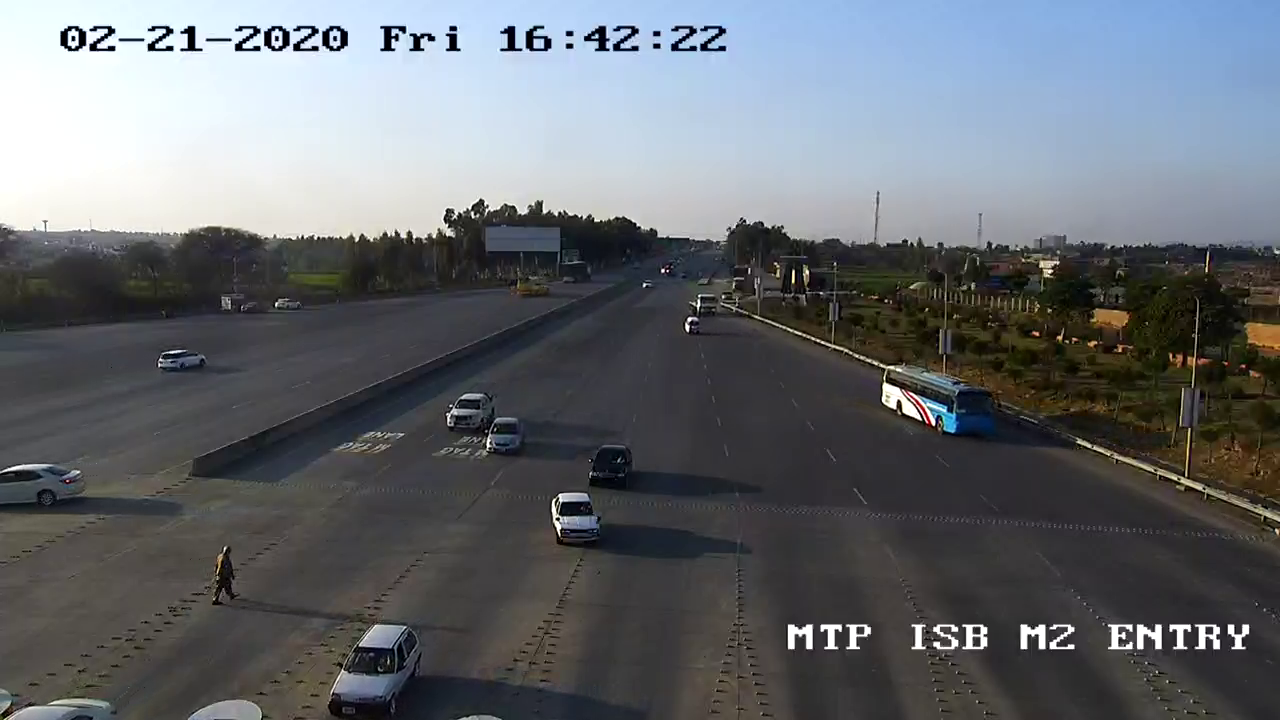f1: (317, 618, 428, 720), (543, 486, 605, 549), (579, 440, 642, 495), (440, 384, 503, 438)
f4: (875, 357, 1012, 455)
